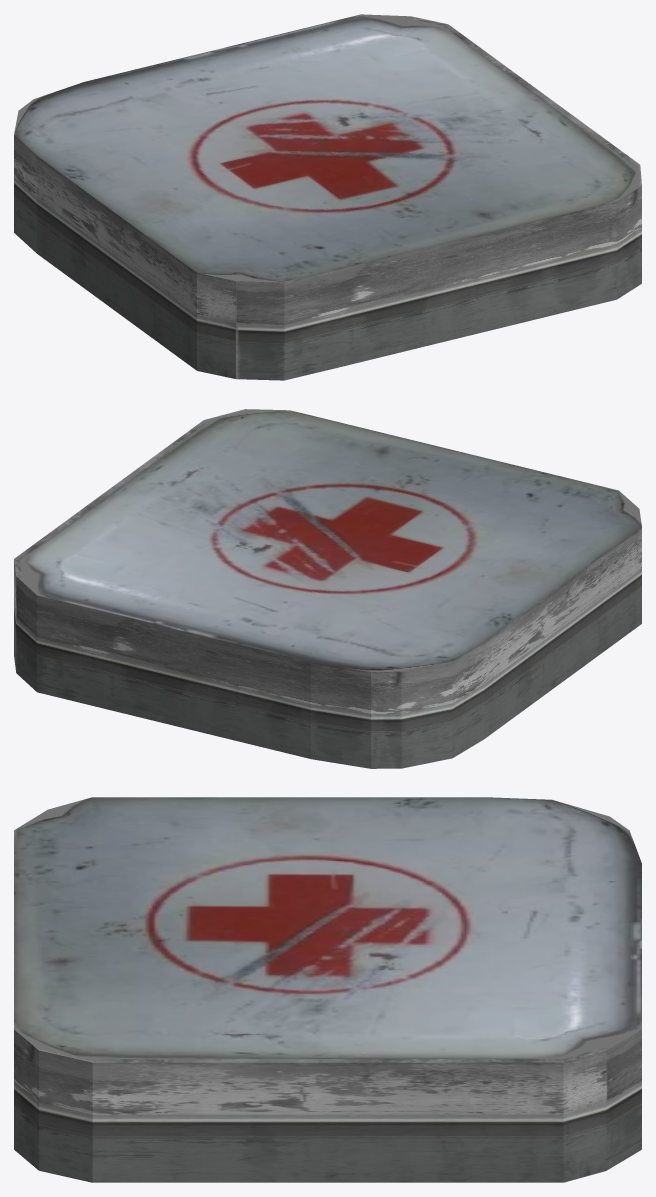
File: hillbox.fbx
3 views of the same model, one above another, from view 1: azimuth 30°, elevation 25°; view 2: azimuth 150°, elevation 25°; view 3: azimuth 270°, elevation 25° (orthographic). The views are drawn at different scales.
Parts seen in each view (by area): view 1: Cube; view 2: Cube; view 3: Cube.
Boxes of the visible parts, x1=… form: Cube: x1=14, y1=14, x2=641, y2=380; Cube: x1=14, y1=409, x2=641, y2=768; Cube: x1=14, y1=797, x2=641, y2=1182.
Size of the model in its own units: 200 by 42.24 by 200.
Materials: 1 (1 with a texture image).
